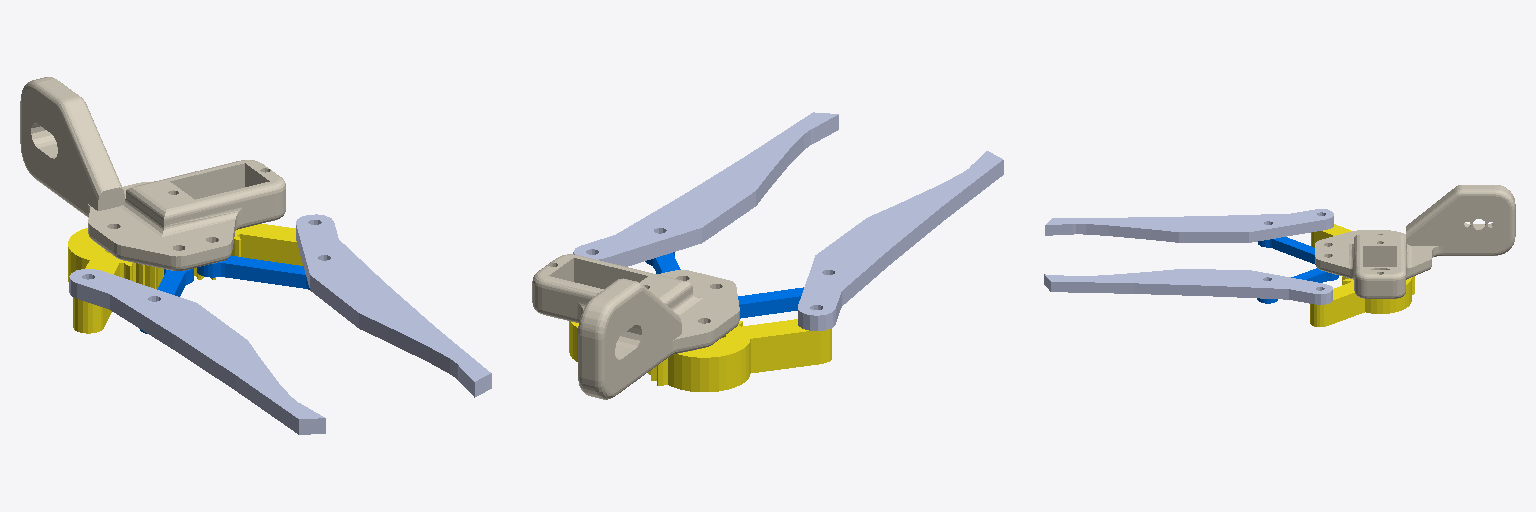
URDF robot description (new_gripper_assembly):
<?xml version="1.0" encoding="utf-8"?>
<!-- URDF for new_gripper_assembly - RViz2 compatible -->
<robot name="new_gripper_assembly">

  <!-- ===================== BASE LINK ===================== -->
  <link name="world"/>

  <joint name="world_to_gripper" type="fixed">
    <origin xyz="0 0 0" rpy="0 0 0"/>
    <parent link="world"/>
    <child link="gripper"/>
  </joint>

  <!-- ===================== GRIPPER (BASE) ===================== -->
  <link name="gripper">
    <inertial>
      <origin
        xyz="0.00247230395830418 -0.00248613621177451 -0.00798567233676782"
        rpy="0 0 0"/>
      <mass value="0.0160520771058304"/>
      <inertia
        ixx="7.2667657692015E-06"
        ixy="4.04889074274502E-07"
        ixz="-1.78763750504504E-06"
        iyy="9.01487283401242E-06"
        iyz="1.3412495361454E-06"
        izz="3.29865806642553E-06"/>
    </inertial>
    <visual>
      <origin xyz="0 0 0" rpy="0 0 0"/>
      <geometry>
        <mesh filename="package://gripper_assembly/meshes/gripper.STL"/>
      </geometry>
      <material name="gripper_body_color">
        <color rgba="0.843137254901961 0.815686274509804 0.752941176470588 1"/>
      </material>
    </visual>
    <collision>
      <origin xyz="0 0 0" rpy="0 0 0"/>
      <geometry>
        <mesh filename="package://gripper_assembly/meshes/gripper.STL"/>
      </geometry>
    </collision>
  </link>

  <!-- ===================== RIGHT GEAR ===================== -->
  <link name="right_gear">
    <inertial>
      <origin
        xyz="0.00555032867268365 0.000582459708095199 0.00499999999999998"
        rpy="0 0 0"/>
      <mass value="0.00645515105378562"/>
      <inertia
        ixx="2.70280135954047E-07"
        ixy="2.08684887266981E-08"
        ixz="1.10072006539858E-21"
        iyy="9.67011982791078E-07"
        iyz="-2.62092872613955E-22"
        izz="1.1297062678487E-06"/>
    </inertial>
    <visual>
      <origin xyz="0 0 0" rpy="0 0 0"/>
      <geometry>
        <mesh filename="package://gripper_assembly/meshes/right_gear.STL"/>
      </geometry>
      <material name="gear_color">
        <color rgba="1 0.937254901960784 0.137254901960784 1"/>
      </material>
    </visual>
    <collision>
      <origin xyz="0 0 0" rpy="0 0 0"/>
      <geometry>
        <mesh filename="package://gripper_assembly/meshes/right_gear.STL"/>
      </geometry>
    </collision>
  </link>

  <!-- right_gear_joint is the PRIMARY actuated joint; others mimic it -->
  <joint name="right_gear_joint" type="revolute">
    <origin xyz="0.016196 -0.0050578 -0.010046" rpy="3.1416 0 -0.85282"/>
    <parent link="gripper"/>
    <child link="right_gear"/>
    <axis xyz="0 0 1"/>
    <limit lower="-1.57" upper="1.57" effort="10" velocity="1.0"/>
  </joint>

  <!-- ===================== LEFT GEAR ===================== -->
  <link name="left_gear">
    <inertial>
      <origin
        xyz="0.00555032867268362 0.000582459708094994 0.005"
        rpy="0 0 0"/>
      <mass value="0.00645515105378562"/>
      <inertia
        ixx="2.70280135954047E-07"
        ixy="2.08684887266979E-08"
        ixz="1.1266265566698E-22"
        iyy="9.67011982791078E-07"
        iyz="-1.32649266438123E-23"
        izz="1.1297062678487E-06"/>
    </inertial>
    <visual>
      <origin xyz="0 0 0" rpy="0 0 0"/>
      <geometry>
        <mesh filename="package://gripper_assembly/meshes/left_gear.STL"/>
      </geometry>
      <material name="gear_color"/>
    </visual>
    <collision>
      <origin xyz="0 0 0" rpy="0 0 0"/>
      <geometry>
        <mesh filename="package://gripper_assembly/meshes/left_gear.STL"/>
      </geometry>
    </collision>
  </link>

  <joint name="left_gear_joint" type="revolute">
    <origin xyz="-0.010703 -0.0050578 -0.020046" rpy="0 0 -2.3129"/>
    <parent link="gripper"/>
    <child link="left_gear"/>
    <axis xyz="0 0 1"/>
    <limit lower="-1.57" upper="1.57" effort="10" velocity="1.0"/>
    <mimic joint="right_gear_joint" multiplier="1" offset="0"/>
  </joint>

  <!-- ===================== RIGHT LINK ===================== -->
  <link name="right_link">
    <inertial>
      <origin xyz="0 1.73472347597681E-18 0.002" rpy="0 0 0"/>
      <mass value="0.000819182765433025"/>
      <inertia
        ixx="3.68685214029103E-09"
        ixy="7.75481824268463E-24"
        ixz="-1.37972046594972E-24"
        iyy="1.07882092082122E-07"
        iyz="5.7495779054872E-25"
        izz="1.09384456847925E-07"/>
    </inertial>
    <visual>
      <origin xyz="0 0 0" rpy="0 0 0"/>
      <geometry>
        <mesh filename="package://gripper_assembly/meshes/right_link.STL"/>
      </geometry>
      <material name="link_color">
        <color rgba="0 0.501960784313725 1 1"/>
      </material>
    </visual>
    <collision>
      <origin xyz="0 0 0" rpy="0 0 0"/>
      <geometry>
        <mesh filename="package://gripper_assembly/meshes/right_link.STL"/>
      </geometry>
    </collision>
  </link>

  <joint name="right_link_joint" type="revolute">
    <origin xyz="0.017496 -0.036736 -0.014046" rpy="0 0 -0.85279"/>
    <parent link="gripper"/>
    <child link="right_link"/>
    <axis xyz="0 0 1"/>
    <limit lower="-1.57" upper="1.57" effort="10" velocity="1.0"/>
    <mimic joint="right_gear_joint" multiplier="1" offset="0"/>
  </joint>

  <!-- ===================== LEFT LINK ===================== -->
  <link name="left_link">
    <inertial>
      <origin xyz="0 0 0.002" rpy="0 0 0"/>
      <mass value="0.000819182765433024"/>
      <inertia
        ixx="3.68685214029104E-09"
        ixy="-1.9335346818427E-23"
        ixz="1.00402964259699E-25"
        iyy="1.07882092082122E-07"
        iyz="1.79286414958361E-25"
        izz="1.09384456847925E-07"/>
    </inertial>
    <visual>
      <origin xyz="0 0 0" rpy="0 0 0"/>
      <geometry>
        <mesh filename="package://gripper_assembly/meshes/left_link.STL"/>
      </geometry>
      <material name="link_color"/>
    </visual>
    <collision>
      <origin xyz="0 0 0" rpy="0 0 0"/>
      <geometry>
        <mesh filename="package://gripper_assembly/meshes/left_link.STL"/>
      </geometry>
    </collision>
  </link>

  <joint name="left_link_joint" type="revolute">
    <origin xyz="-0.013034 -0.036616 -0.010046" rpy="-3.1416 0 -2.3005"/>
    <parent link="gripper"/>
    <child link="left_link"/>
    <axis xyz="0 0 1"/>
    <limit lower="-1.57" upper="1.57" effort="10" velocity="1.0"/>
    <mimic joint="right_gear_joint" multiplier="1" offset="0"/>
  </joint>

  <!-- ===================== RIGHT FINGER ===================== -->
  <link name="right_finger">
    <inertial>
      <origin
        xyz="0.0332544525627715 0.00990186713364257 0.00225000811833941"
        rpy="0 0 0"/>
      <mass value="0.00531392196719298"/>
      <inertia
        ixx="5.35709045890399E-07"
        ixy="-1.23304111671055E-06"
        ixz="-8.10212655967829E-13"
        iyy="3.61247019034449E-06"
        iyz="9.83693136764357E-13"
        izz="4.1302446962185E-06"/>
    </inertial>
    <visual>
      <origin xyz="0 0 0" rpy="0 0 0"/>
      <geometry>
        <mesh filename="package://gripper_assembly/meshes/right_finger.STL"/>
      </geometry>
      <material name="finger_color">
        <color rgba="0.792156862745098 0.819607843137255 0.933333333333333 1"/>
      </material>
    </visual>
    <collision>
      <origin xyz="0 0 0" rpy="0 0 0"/>
      <geometry>
        <mesh filename="package://gripper_assembly/meshes/right_finger.STL"/>
      </geometry>
    </collision>
  </link>

  <joint name="right_finger_joint" type="revolute">
    <origin xyz="0.035482 0.0099303 0" rpy="-3.1416 0 1.1261"/>
    <parent link="right_gear"/>
    <child link="right_finger"/>
    <axis xyz="0 0 1"/>
    <limit lower="-1.57" upper="1.57" effort="10" velocity="1.0"/>
    <mimic joint="right_gear_joint" multiplier="1" offset="0"/>
  </joint>

  <!-- ===================== LEFT FINGER ===================== -->
  <link name="left_finger">
    <inertial>
      <origin
        xyz="0.0332544531718166 0.00990186656694004 0.00225000811833937"
        rpy="0 0 0"/>
      <mass value="0.00531392201150648"/>
      <inertia
        ixx="5.35709194537405E-07"
        ixy="-1.23304110552929E-06"
        ixz="-8.12576129511237E-13"
        iyy="3.61247040368807E-06"
        iyz="9.89621217064405E-13"
        izz="4.13024505811935E-06"/>
    </inertial>
    <visual>
      <origin xyz="0 0 0" rpy="0 0 0"/>
      <geometry>
        <mesh filename="package://gripper_assembly/meshes/left_finger.STL"/>
      </geometry>
      <material name="finger_color"/>
    </visual>
    <collision>
      <origin xyz="0 0 0" rpy="0 0 0"/>
      <geometry>
        <mesh filename="package://gripper_assembly/meshes/left_finger.STL"/>
      </geometry>
    </collision>
  </link>

  <joint name="left_finger_joint" type="revolute">
    <origin xyz="0.035542 0.0099013 0.0145" rpy="-3.1416 0 1.12"/>
    <parent link="left_gear"/>
    <child link="left_finger"/>
    <axis xyz="0 0 1"/>
    <limit lower="-1.57" upper="1.57" effort="10" velocity="1.0"/>
    <mimic joint="right_gear_joint" multiplier="1" offset="0"/>
  </joint>

</robot>

--- What the picture shows (computed from the rendered views, not written in the file) ---
The picture shows the robot from 3 angles, left to right: view 1: azimuth 30°, elevation 25°; view 2: azimuth 150°, elevation 25°; view 3: azimuth 270°, elevation 25°; orthographic projection.
Model new_gripper_assembly with 8 links and 7 joints (6 revolute, 1 fixed), rooted at world, posed every joint at zero.
Links seen in each view (by area): view 1: gripper, left_finger, right_finger, left_gear, right_gear, right_link, left_link; view 2: gripper, right_finger, left_finger, left_gear, left_link; view 3: gripper, right_finger, left_finger, right_gear, left_link.
Boxes of the visible links, x1,y1,x2,y2 form: gripper: [20, 77, 285, 270]; left_finger: [69, 269, 325, 434]; right_finger: [296, 214, 491, 397]; left_gear: [68, 228, 163, 333]; right_gear: [194, 224, 302, 279]; right_link: [197, 256, 309, 289]; left_link: [140, 268, 193, 333]; gripper: [532, 254, 739, 399]; right_finger: [573, 112, 838, 266]; left_finger: [798, 151, 1003, 330]; left_gear: [648, 319, 831, 391]; left_link: [738, 287, 803, 318]; gripper: [1315, 185, 1515, 298]; right_finger: [1044, 269, 1332, 304]; left_finger: [1045, 209, 1333, 242]; right_gear: [1310, 276, 1414, 326]; left_link: [1258, 237, 1315, 264].
Bounding box of the posed robot: 0.0779 × 0.1812 × 0.038 m (x, y, z).
Meshes: 7 distinct files referenced, 7 mesh visuals loaded (7 binary STL).
